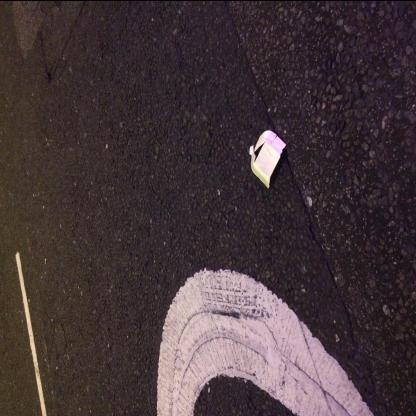kopuk: (250, 130, 288, 190)
